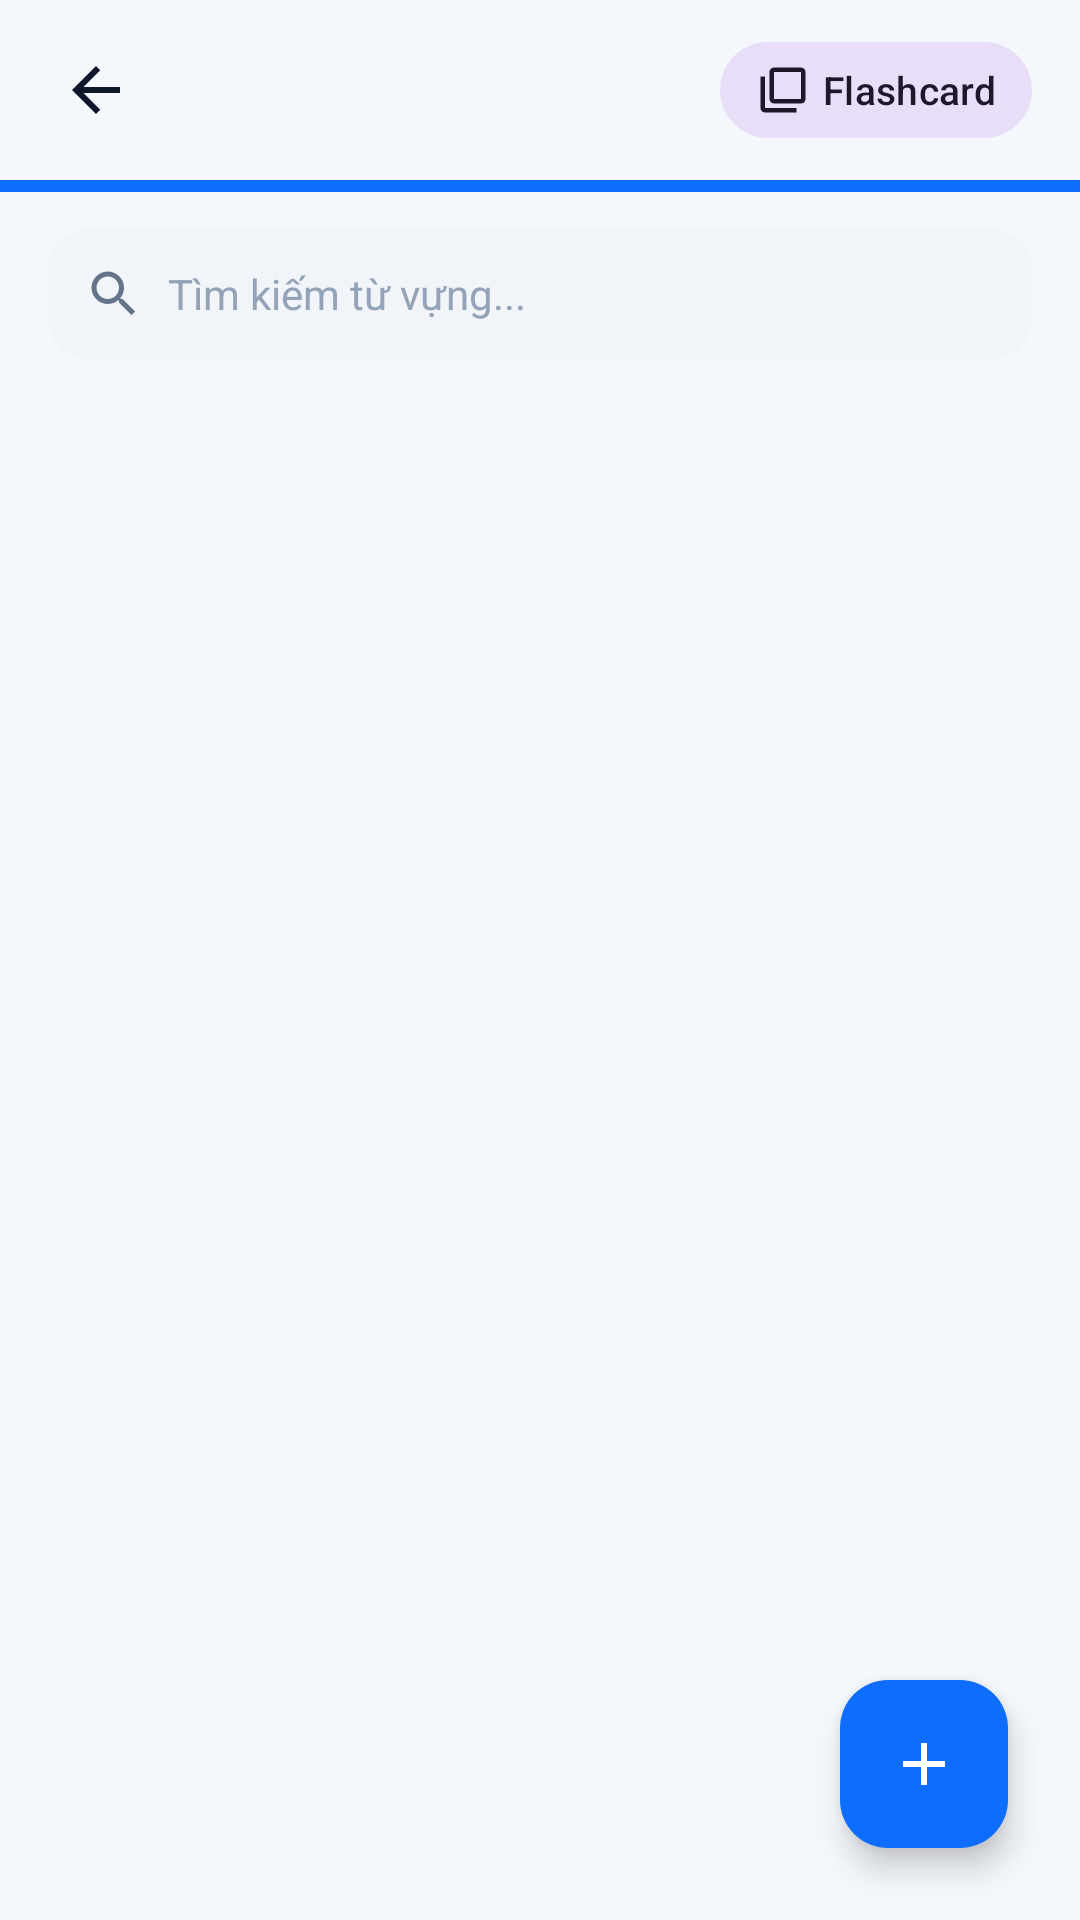

Where icons sit on this 1080w x 1920h app screen, as [x1, y1, x2, y2]:
Add Word: [840, 1680, 1008, 1848]
Back: [72, 66, 120, 114]
Search: [91, 271, 135, 315]
